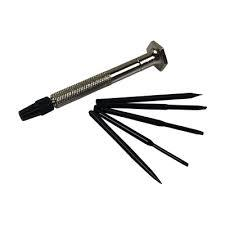screwdriver: (19, 39, 167, 121), (17, 39, 166, 120), (88, 109, 162, 184), (93, 109, 188, 167), (92, 103, 204, 135), (93, 101, 206, 110), (153, 92, 203, 100)
